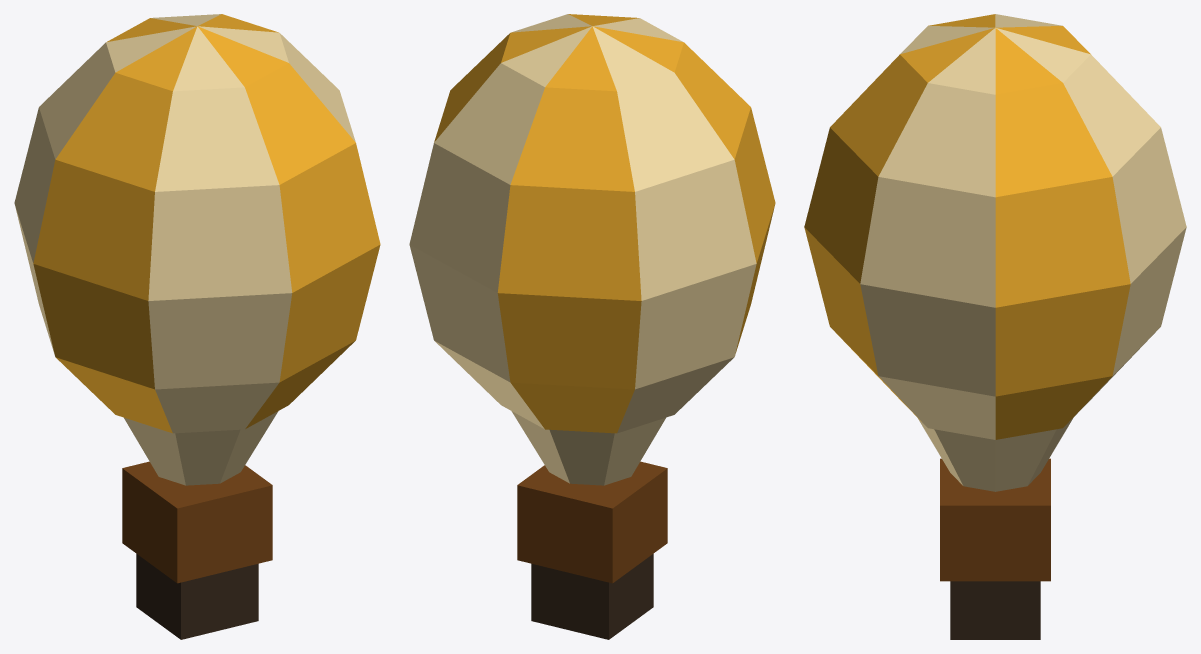
File: supply.glb
The picture shows the model from 3 angles, left to right: view 1: azimuth 30°, elevation 25°; view 2: azimuth 150°, elevation 25°; view 3: azimuth 270°, elevation 25°; orthographic projection.
Parts seen in each view (by area): view 1: Env, Basket1, Crate2, Skirt; view 2: Env, Basket1, Crate2, Skirt; view 3: Env, Basket1, Skirt, Crate2.
Boxes of the visible parts, box(x1,y1,x2,y2) form: Env: box(14, 14, 380, 433); Basket1: box(122, 461, 272, 583); Crate2: box(136, 554, 258, 639); Skirt: box(124, 411, 278, 485); Env: box(409, 14, 775, 433); Basket1: box(517, 461, 667, 583); Crate2: box(531, 554, 653, 639); Skirt: box(511, 411, 665, 485); Env: box(804, 14, 1186, 439); Basket1: box(940, 458, 1050, 581); Skirt: box(918, 418, 1072, 491); Crate2: box(950, 581, 1040, 639).
Bounding box in the file's own units: 1.1 × 1.88 × 1.1.
